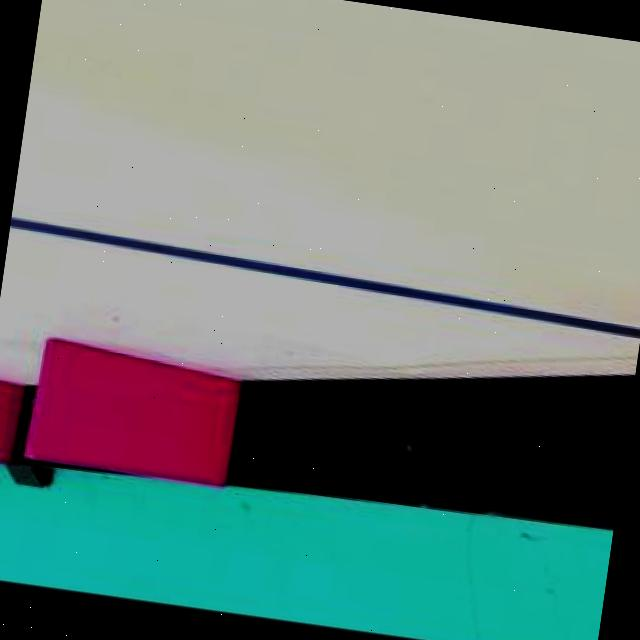xparking: (30, 338, 232, 474), (0, 379, 17, 449)
